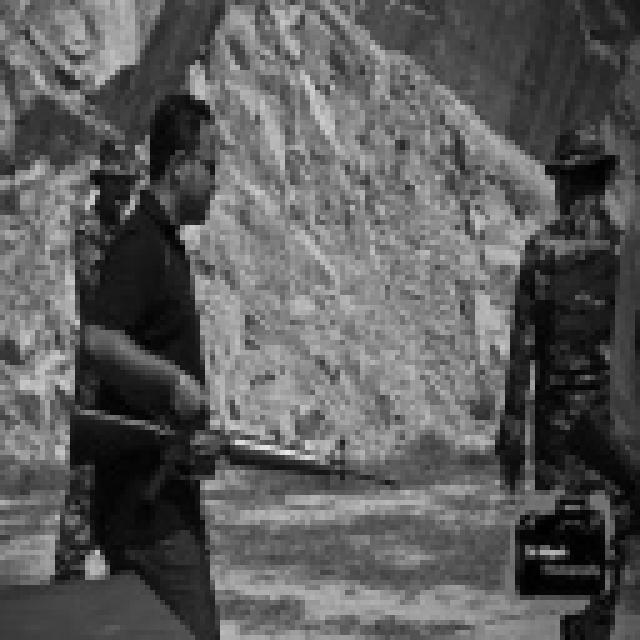Rifle: (0, 0, 410, 555), (39, 346, 433, 545)
